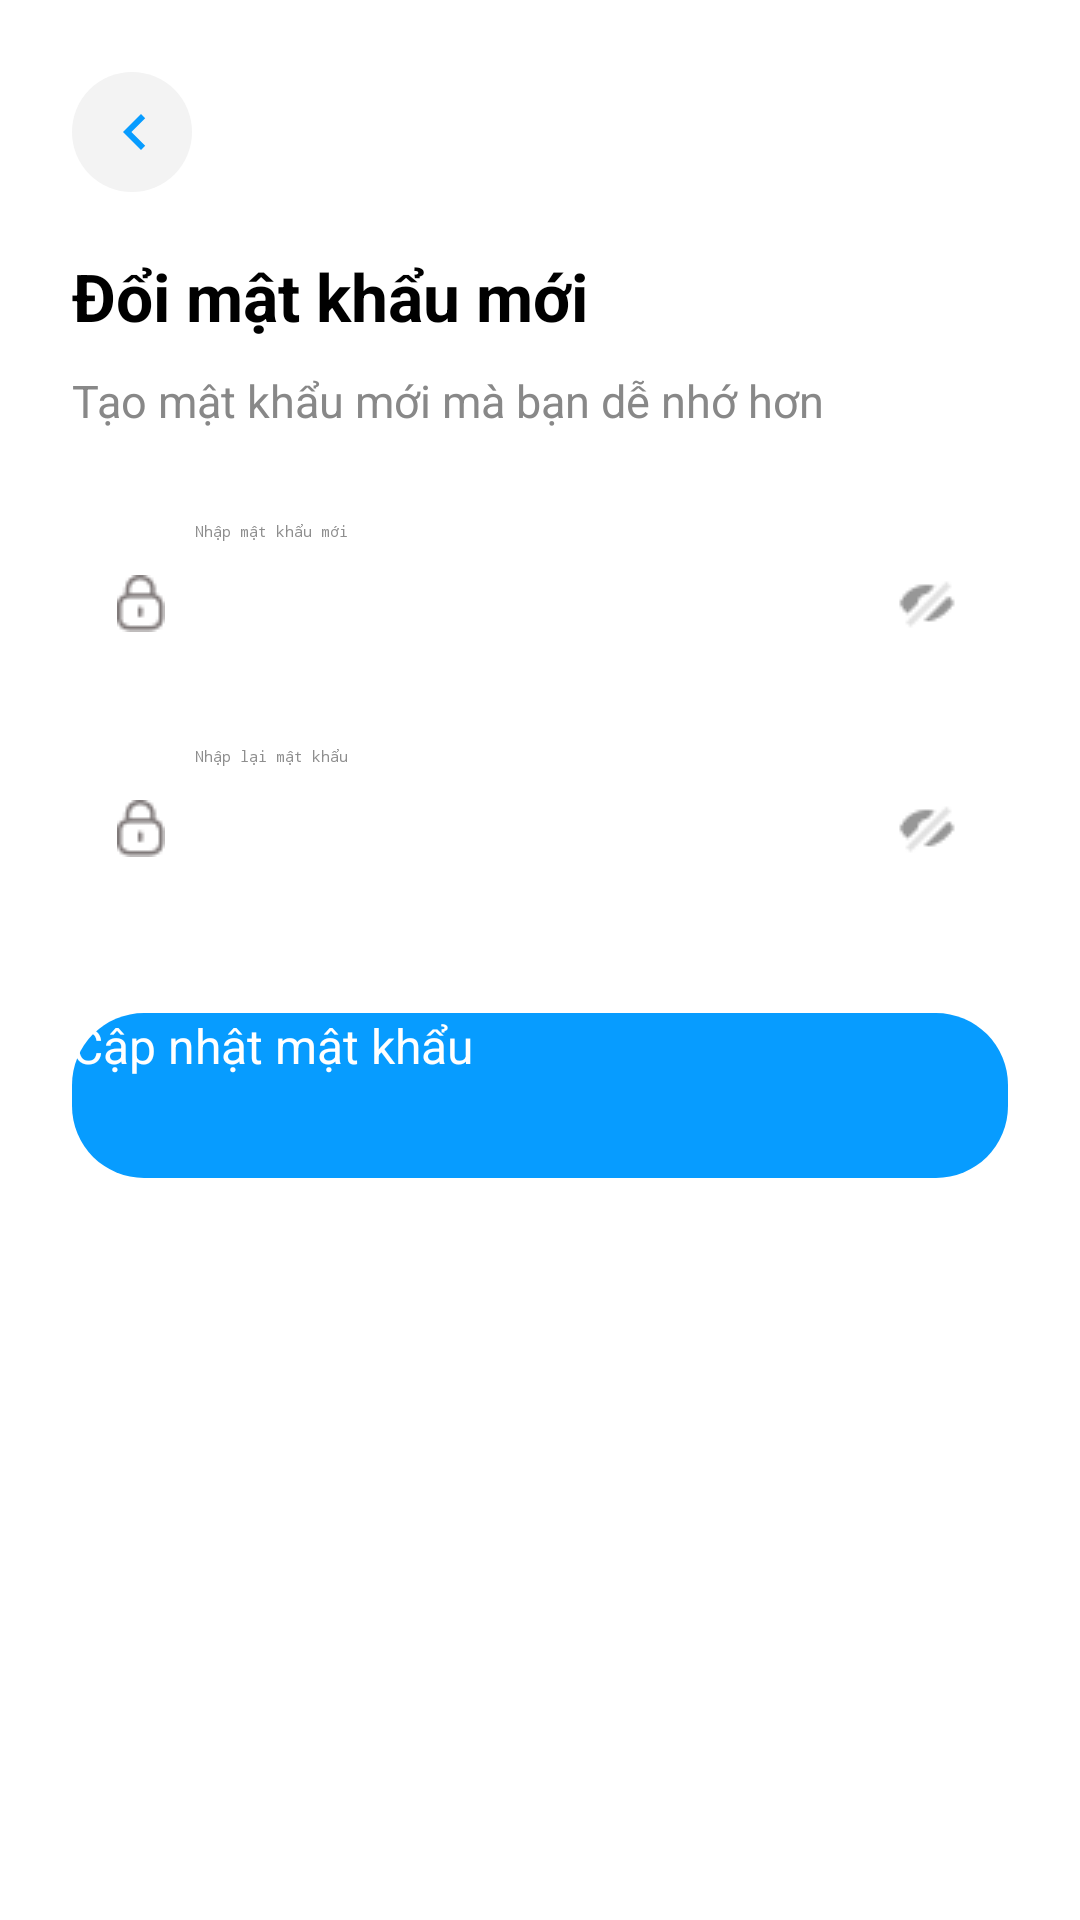

Icon click points for this 1080*1920 phone screenshot, format (x=x, y=y):
back: (x=132, y=132)
